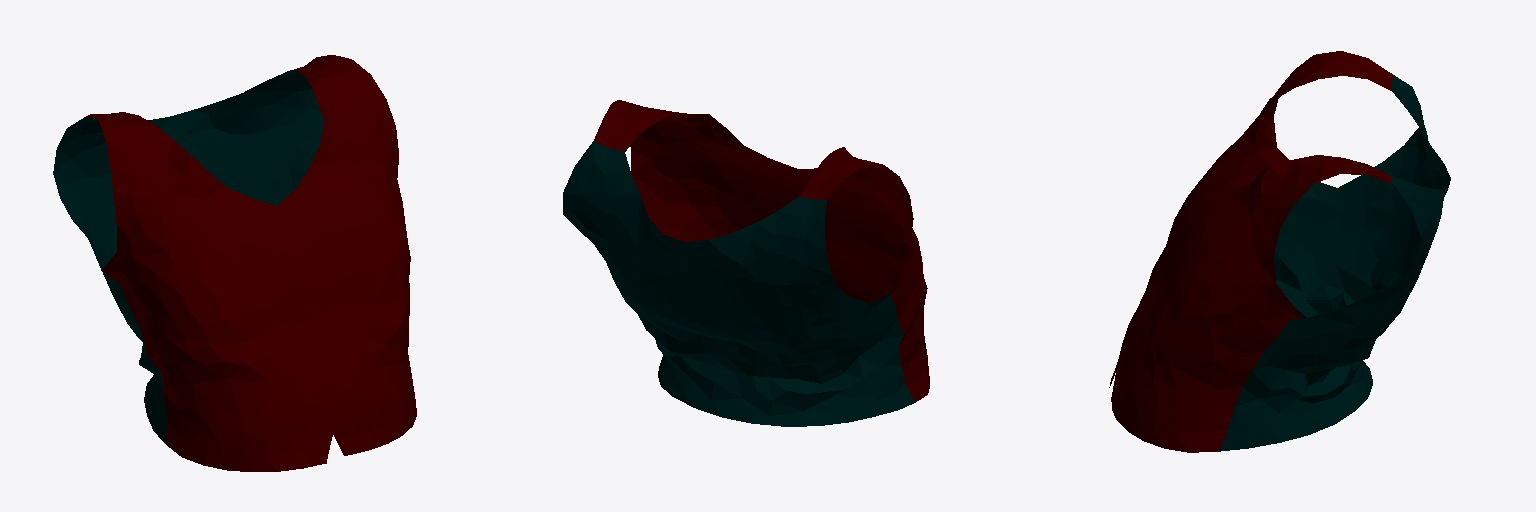
File: ignacio-vest.obj
3 renders of one model, left to right at view 1: azimuth 30°, elevation 25°; view 2: azimuth 150°, elevation 25°; view 3: azimuth 270°, elevation 25°, orthographic.
Bounding box in the file's own units: 0.2289 × 0.2205 × 0.238.